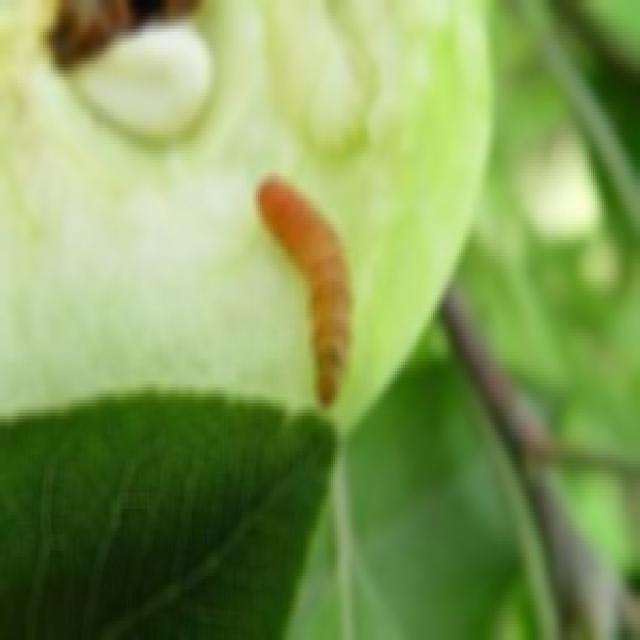peach borer: (249, 177, 355, 414)
